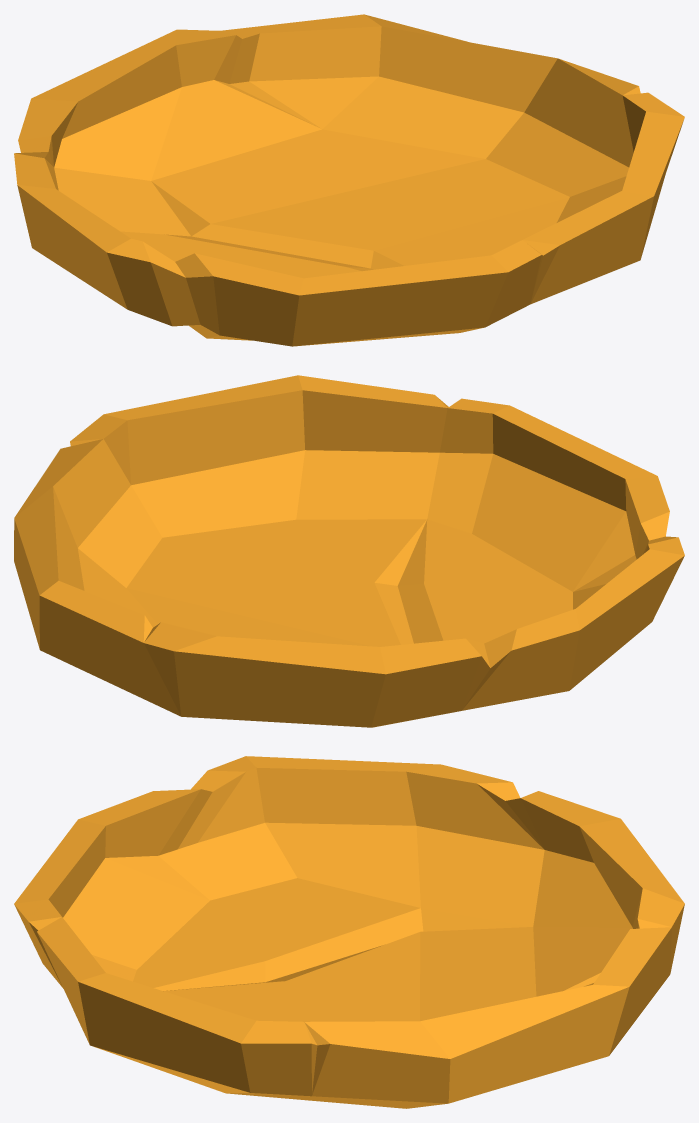
The model's file is SM_Plate_Wood_Broken.fbx.
3 renders of one model, top to bottom at view 1: azimuth 30°, elevation 25°; view 2: azimuth 150°, elevation 25°; view 3: azimuth 270°, elevation 25°, orthographic.
Visible parts, largest first — view 1: plate-wood-broken; view 2: plate-wood-broken; view 3: plate-wood-broken.
Part boxes in pixels (x1,y1,x2,y2): plate-wood-broken: [14, 14, 684, 346]; plate-wood-broken: [14, 375, 684, 727]; plate-wood-broken: [14, 756, 684, 1108].
Bounding box in the file's own units: 0.2507 × 0.0443 × 0.25.
